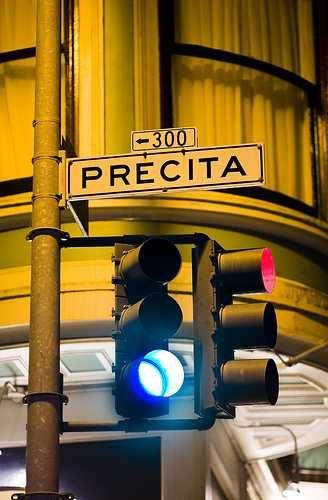green: (114, 235, 189, 418), (114, 352, 185, 415)
